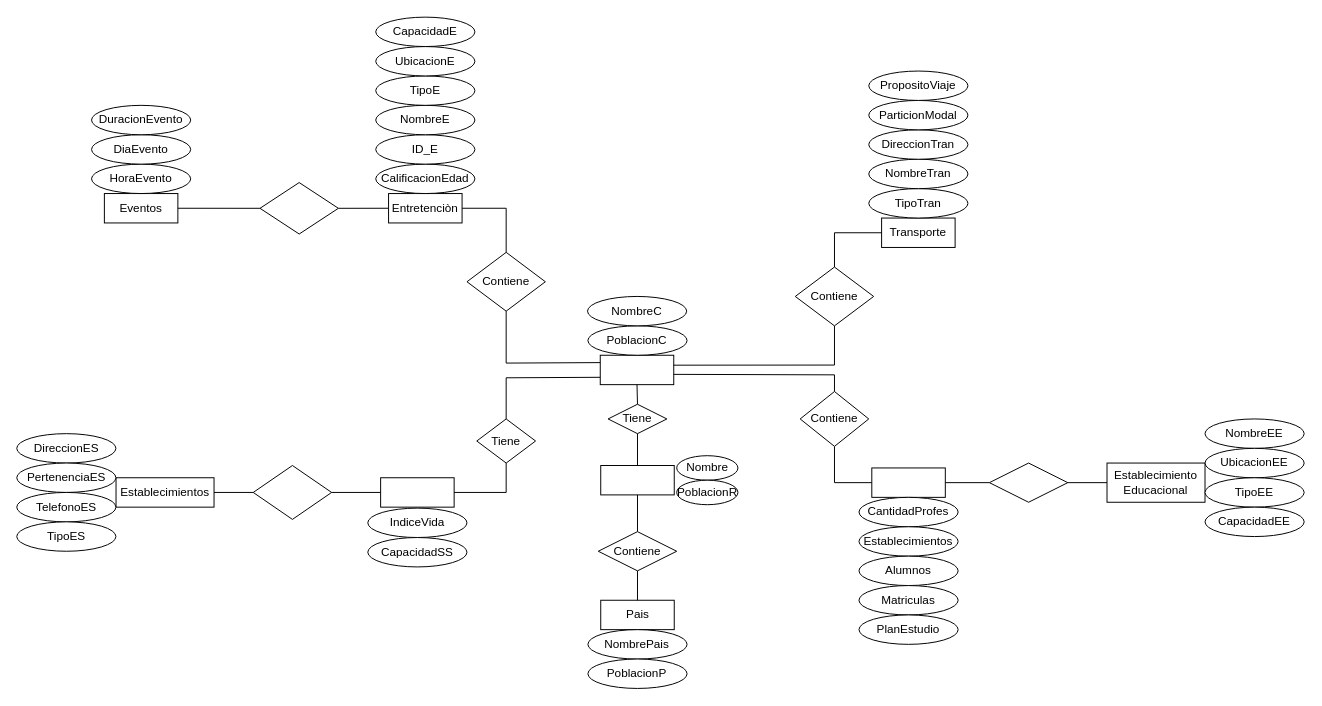
Image size: 1322x706. Some labels were removed from this diagram. Here are the shapes that lost their labels. From the top down, the centre of each, then its label:
(298,208): Ocurren
(636,369): Comuna
(292,492): Se conforma
(417,492): Salud
(637,480): Region
(908,482): Educacion
(1028,482): Conforma
